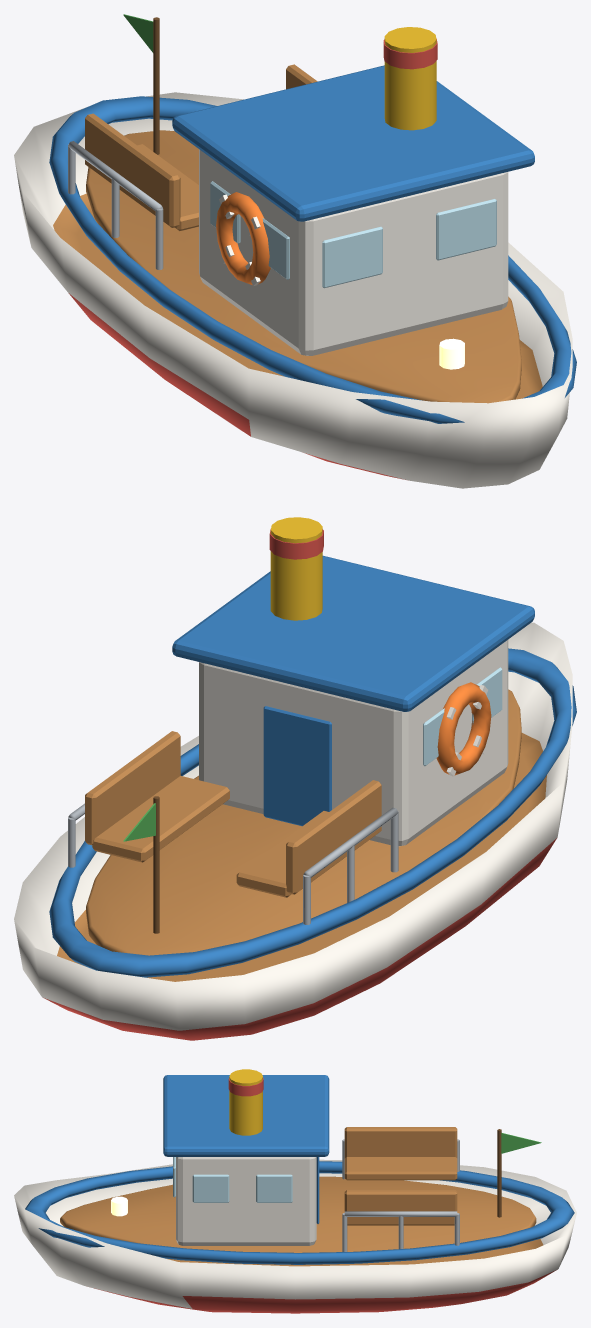
Rendered from barco.glb.
3 renders of one model, top to bottom at view 1: azimuth 30°, elevation 25°; view 2: azimuth 150°, elevation 25°; view 3: azimuth 270°, elevation 25°, orthographic. The views are drawn at different scales.
Parts seen in each view (by area): view 1: barco; view 2: barco; view 3: barco.
Part boxes in pixels (x1,y1,x2,y2): barco: (14, 14, 576, 488); barco: (14, 517, 576, 1040); barco: (14, 1069, 576, 1313).
Size of the model in its own units: 1.8 by 1.76 by 4.
